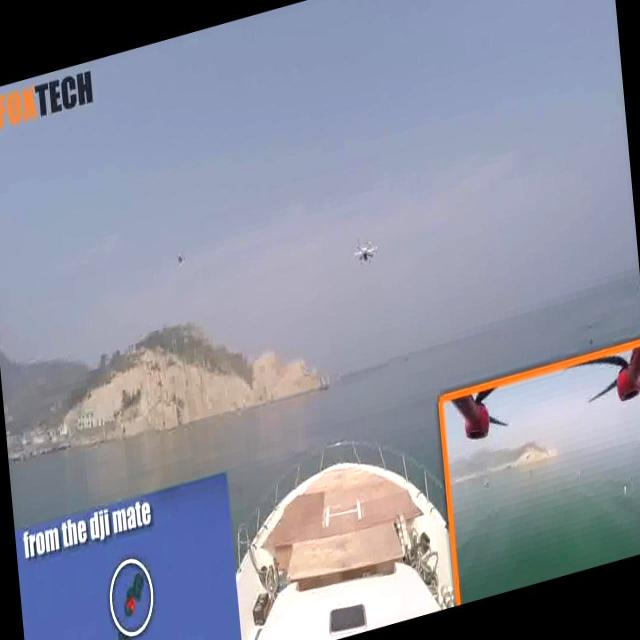drone: (348, 228, 387, 274)
